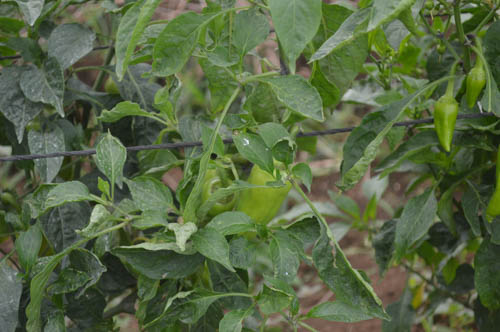ChiliPepper: (242, 161, 290, 227), (432, 99, 458, 155), (197, 181, 235, 212), (462, 71, 483, 105)
